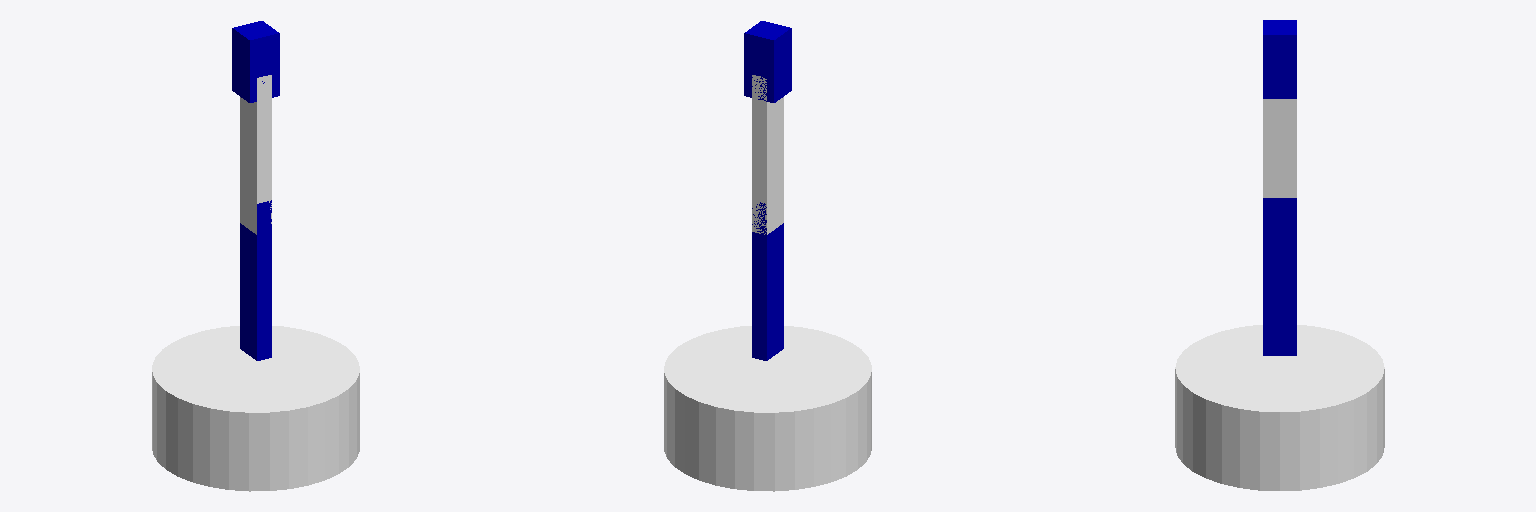
URDF robot description (flexible):
<?xml version="1.0"?>
<robot name="flexible">
  <link name="base_link">
    <visual>
      <geometry>
        <cylinder length="0.5" radius="0.6"/>
      </geometry>
      <material name="white">
        <color rgba="1 1 1 1"/>
      </material>
    </visual>
  </link>

  <link name="axis_1">
    <visual>
      <geometry>
        <box size="1 .2 .1"/>
      </geometry>
      <origin rpy="0 -1.57075 0" xyz="0 0 0.6"/>
      <material name="blue">
        <color rgba="0 0 .8 1"/>
      </material>
    </visual>
  </link>


  <joint name="axis1_joint" type="revolute">
    <axis xyz="1 0 0"/>
    <parent link="base_link"/>
    <child link="axis_1"/>
    <origin xyz="0 0 0.25"/>
    <limit effort="100" lower="-0.548" upper="0.548" velocity="100"/>
    <joint_properties damping="0.0" friction="0.0"/>
  </joint>
  
  <link name="axis_2">
    <visual>
      <geometry>
        <box size="1 .2 .1"/>
      </geometry>
      <origin rpy="0 -1.57075 0" xyz="0 0 0.4"/>
      <material name="white">
      </material>
    </visual>
  </link>


  <joint name="axis2_joint" type="revolute">
    <axis xyz="1 0 0"/>
    <parent link="axis_1"/>
    <child link="axis_2"/>
    <origin xyz="0 0 1"/>
    <limit effort="100" lower="-0.548" upper="0.548" velocity="100"/>
    <joint_properties damping="0.0" friction="0.0"/>
  </joint>
  
    <link name="base_gripper">
    <visual>
      <geometry>
        <box size="0.1 .2 .1"/>
      </geometry>
      <origin rpy="0 -1.57075 0" xyz="0 0 0.0"/>
      <material name="blue">
      </material>
    </visual>
  </link>


  <joint name="base_gripper_joint" type="revolute">
    <axis xyz="1 0 0"/>
    <parent link="axis_2"/>
    <child link="base_gripper"/>
    <origin xyz="0 0 0.9"/>
    <limit effort="100" lower="-0.548" upper="0.548" velocity="100"/>
    <joint_properties damping="0.0" friction="0.0"/>
  </joint>


  
  <joint name="right_gripper_joint" type="revolute">
    <axis xyz="0 1 0"/>
    <limit effort="1000.0" lower="0.0" upper="0.548" velocity="0.5"/>
    <origin rpy="0 0 0" xyz="0 0 0"/>
    <parent link="base_gripper"/>
    <child link="right_gripper"/>
  </joint>

<link name="right_gripper">
    <visual>
      <geometry>
        <box size="0.4 .2 .1"/>
      </geometry>
      <origin rpy="0 -1.57075 0" xyz="0.05 0 0.05"/>
      <material name="blue">

      </material>
    </visual>
</link>
    <joint name="left_gripper_joint" type="revolute">
    <axis xyz="0 -1 0"/>
    <limit effort="1000.0" lower="0.0" upper="0.548" velocity="0.5"/>
    <origin rpy="0 0 0" xyz="0 0 0"/>
    <parent link="base_gripper"/>
    <child link="left_gripper"/>
  </joint>

<link name="left_gripper">
    <visual>
      <geometry>
        <box size="0.4 .2 .1"/>
      </geometry>
      <origin rpy="0 -1.57075 0" xyz="-0.05 0 0.05"/>
      <material name="blue">
        <color rgba="0 0 .8 1"/>
      </material>
    </visual>
  </link>
 <link name="right_front_wheel">
    <visual>
      <geometry>
        <cylinder length=".1" radius="0.035"/>
      </geometry>
      <material name="black">
        <color rgba="0 0 0 1"/>
      </material>
    </visual>
  </link>

  <joint name="right_front_wheel_joint" type="continuous">
    <axis xyz="0 0 1"/>
    <parent link="base_link"/>
    <child link="right_front_wheel"/>
    <origin rpy="0 1.57075 0" xyz="0.2 0.133333333333 -0.25"/>
    <limit effort="100" velocity="100"/>
    <joint_properties damping="0.0" friction="0.0"/>
  </joint>

  <link name="right_back_wheel">
    <visual>
      <geometry>
        <cylinder length=".1" radius="0.035"/>
      </geometry>
      <material name="black"/>
    </visual>
  </link>

  <joint name="right_back_wheel_joint" type="continuous">
    <axis xyz="0 0 1"/>
    <parent link="base_link"/>
    <child link="right_back_wheel"/>
    <origin rpy="0 1.57075 0" xyz="0.2 -0.133333333333 -0.25"/>
    <limit effort="100" velocity="100"/>
    <joint_properties damping="0.0" friction="0.0"/>
  </joint>
  <link name="left_front_wheel">
    <visual>
      <geometry>
        <cylinder length=".1" radius="0.035"/>
      </geometry>
      <material name="black"/>
    </visual>
  </link>

  <joint name="left_front_wheel_joint" type="continuous">
    <axis xyz="0 0 1"/>
    <parent link="base_link"/>
    <child link="left_front_wheel"/>
    <origin rpy="0 1.57075 0" xyz="-0.2 0.133333333333 -0.25"/>
    <limit effort="100" velocity="100"/>
    <joint_properties damping="0.0" friction="0.0"/>
  </joint>

  <link name="left_back_wheel">
    <visual>
      <geometry>
        <cylinder length=".1" radius="0.035"/>
      </geometry>
      <material name="black"/>
    </visual>
  </link>

  <joint name="left_back_wheel_joint" type="continuous">
    <axis xyz="0 0 1"/>
    <parent link="base_link"/>
    <child link="left_back_wheel"/>
    <origin rpy="0 1.57075 0" xyz="-0.2 -0.133333333333 -0.25"/>
    <limit effort="100" velocity="100"/>
    <joint_properties damping="0.0" friction="0.0"/>
  </joint>
    
</robot>

--- Facts derived from the render (not from the file) ---
3 views of the same robot in one strip: view 1: azimuth 30°, elevation 25°; view 2: azimuth 150°, elevation 25°; view 3: azimuth 270°, elevation 25° (orthographic).
Model flexible with 10 links and 9 joints (5 revolute, 4 continuous), rooted at base_link, posed every joint at zero.
Visible links, largest first — view 1: base_link, axis_1, axis_2, left_gripper, right_gripper; view 2: base_link, axis_2, axis_1, left_gripper, right_gripper; view 3: base_link, axis_1, axis_2, right_gripper.
Link boxes in pixels (x1,y1,x2,y2): base_link: [152, 326, 359, 491]; axis_1: [240, 200, 271, 360]; axis_2: [240, 75, 271, 234]; left_gripper: [232, 24, 264, 102]; right_gripper: [248, 21, 279, 97]; base_link: [664, 326, 871, 491]; axis_2: [752, 75, 783, 234]; axis_1: [752, 202, 783, 360]; left_gripper: [759, 24, 791, 102]; right_gripper: [744, 21, 775, 99]; base_link: [1175, 325, 1384, 490]; axis_1: [1263, 198, 1296, 355]; axis_2: [1263, 99, 1296, 197]; right_gripper: [1263, 28, 1296, 98].
Bounding box of the posed robot: 1.2 × 1.2 × 2.69 m (x, y, z).
Geometry: primitives only (box / cylinder / sphere), no mesh files.